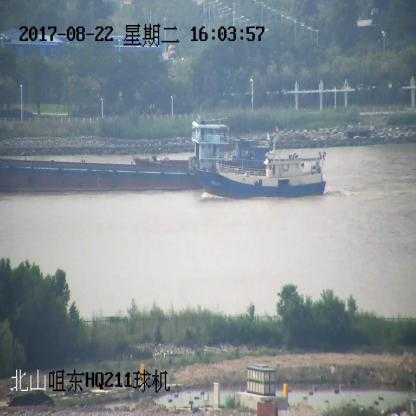Fishing Boat: (198, 126, 325, 199)
